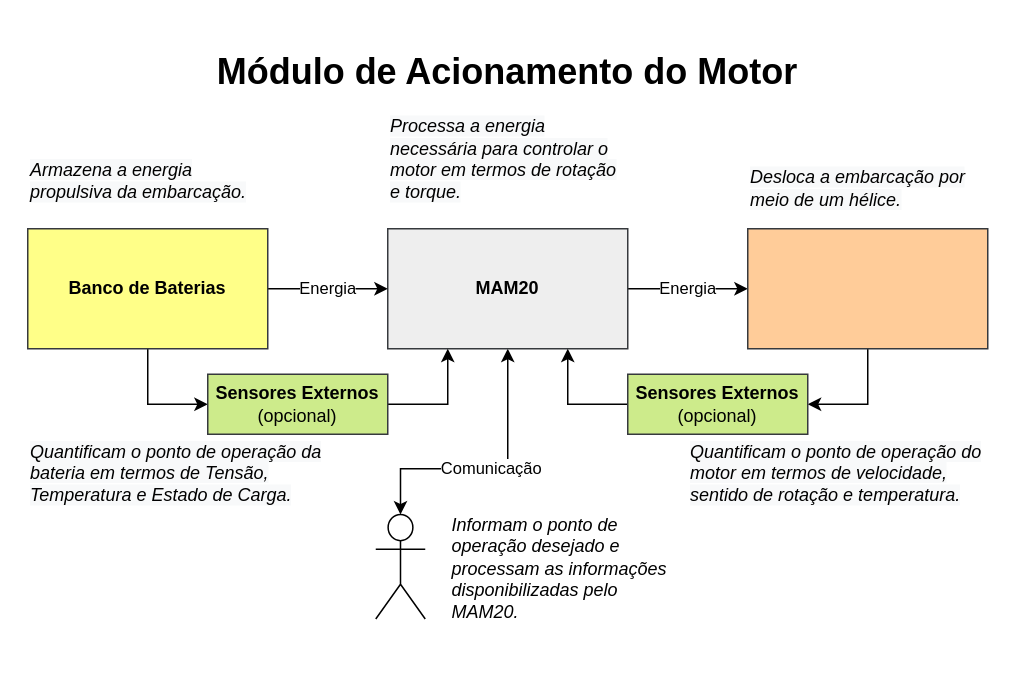
This 1014x677 diagram has some shape labels left out. Each missing label, with the box of its shape:
Motor de Corrente Contínua: (746, 227, 988, 349)
Outros Sistemas: (374, 513, 425, 619)
